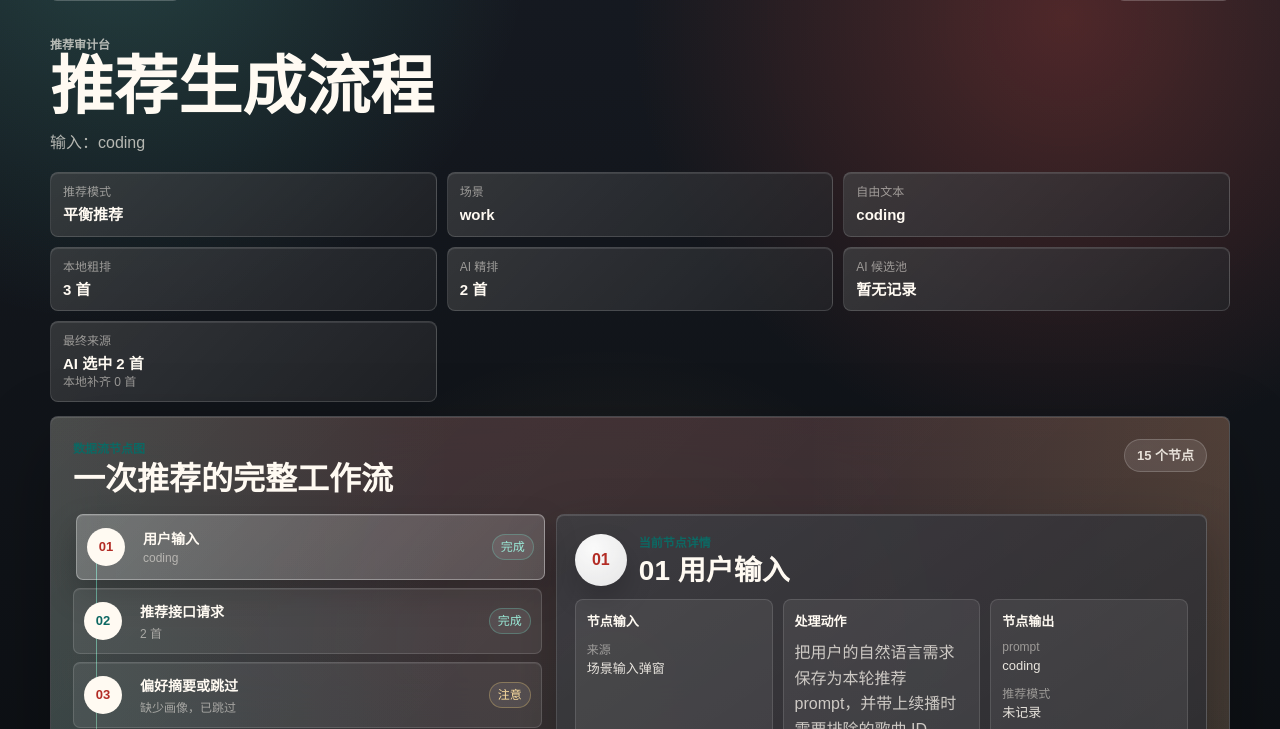
Test: Workbench › renders the standalone recommendation flow page from the latest saved result
The image size is (1280, 729).
Check: the heading "推荐生成流程" is shown, box [50,51,434,123]
Check: the text "数据流节点图" is shown, box [73,442,145,456]
Click the button "03 偏好摘要或跳过 缺少画像，已跳过 注意" at (103,695), box [73,662,542,728]
(page scrolled)
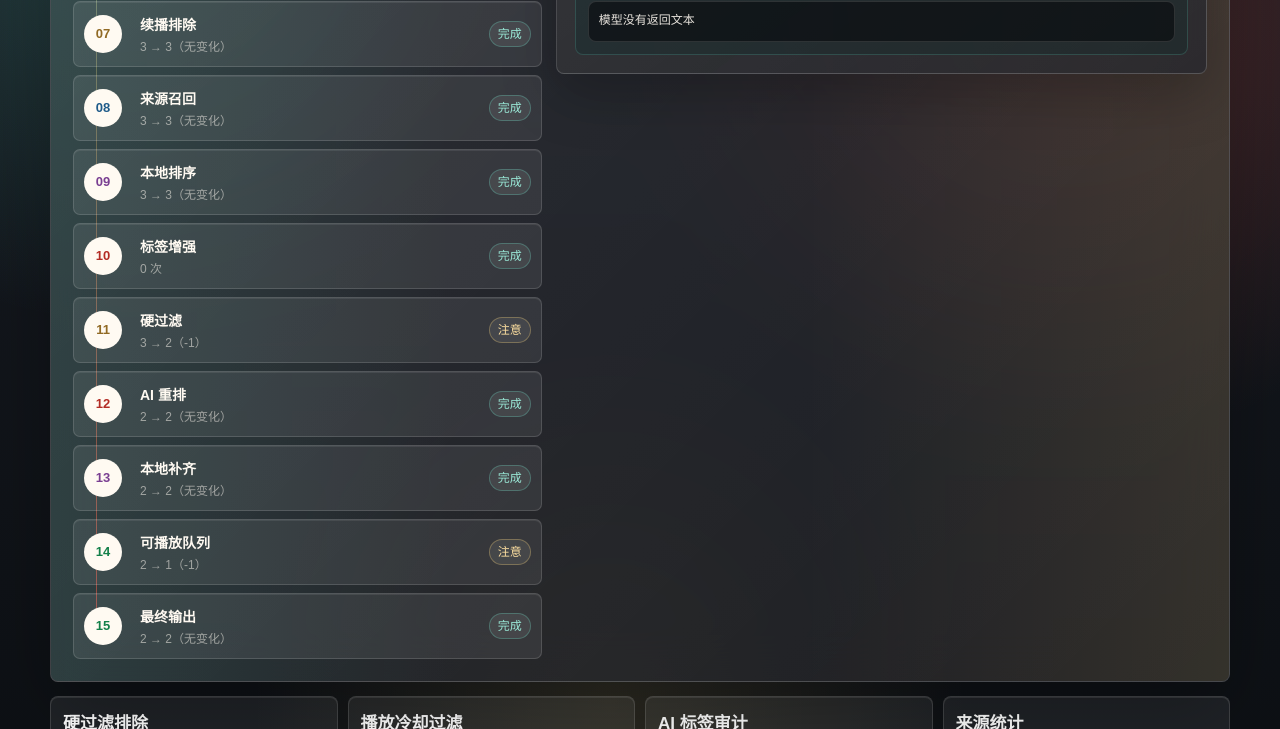
Click the button "11 硬过滤 3 → 2（-1） 注意" at (103,330), box [73,297,542,363]
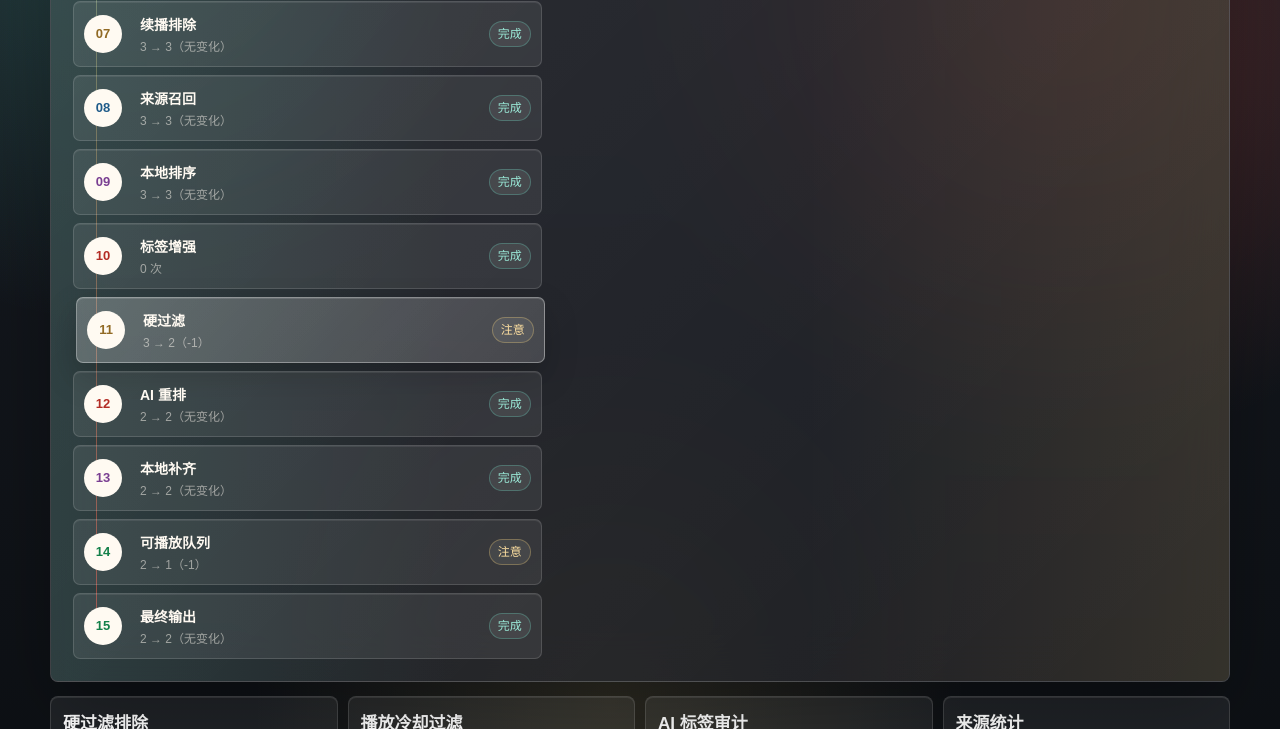
Click the button "12 AI 重排 2 → 2（无变化） 完成" at (103,404), box [73,371,542,437]
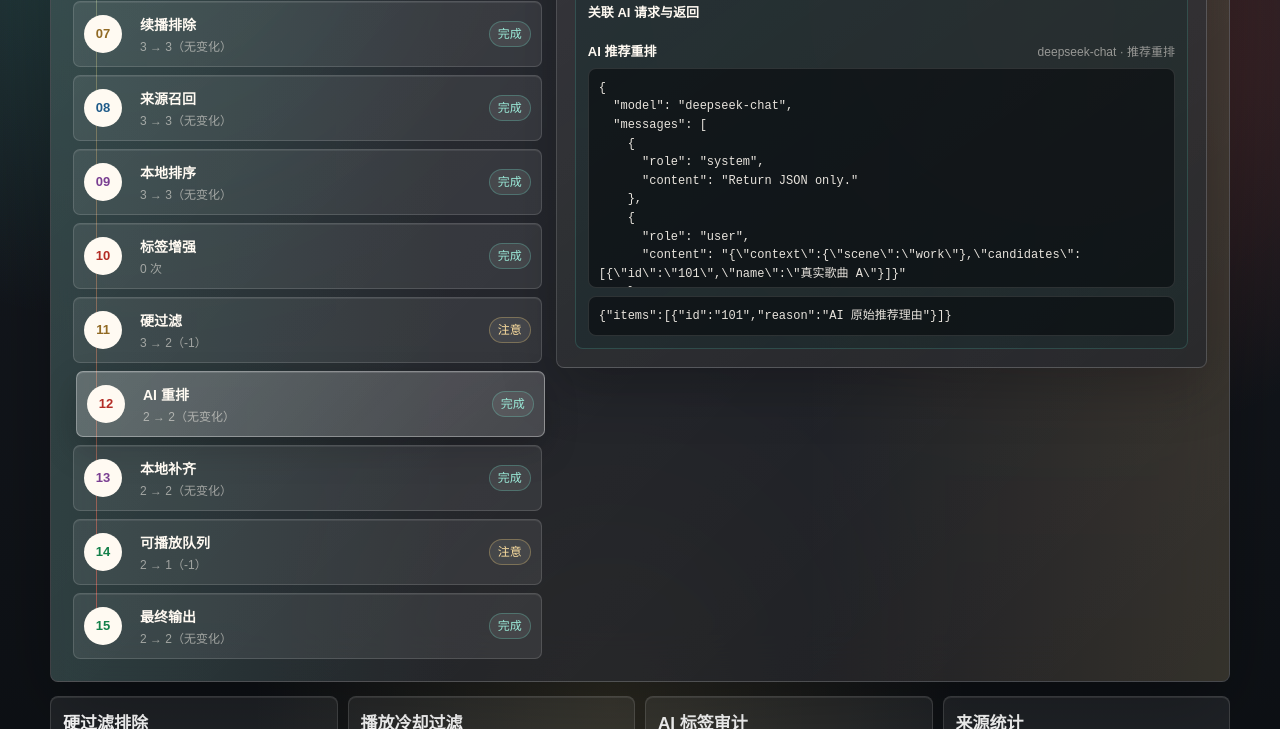
Check: the element "当前节点详情" shows "AI 原始推荐理由", box [599,309,952,323]
Check: the text "Return JSON only" is shown, box [599,81,1081,392]
Check: the text "{\"items\":[{\"id\":\"101\",\"reason\":\"AI 原始推荐理由\"}]}" is shown, box [588,296,1175,336]
